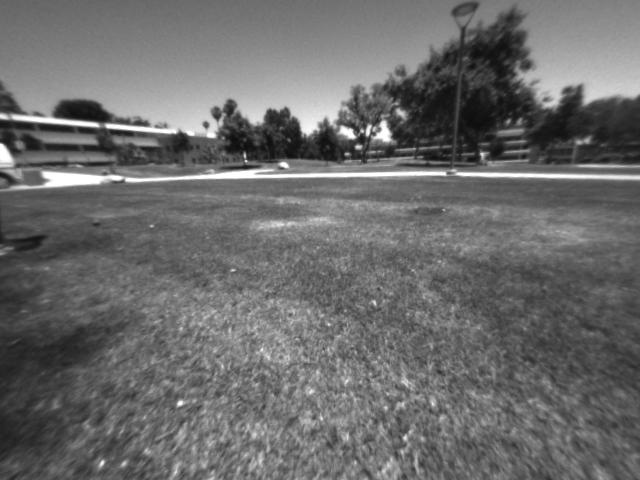dogtoy: (81, 210, 111, 233)
